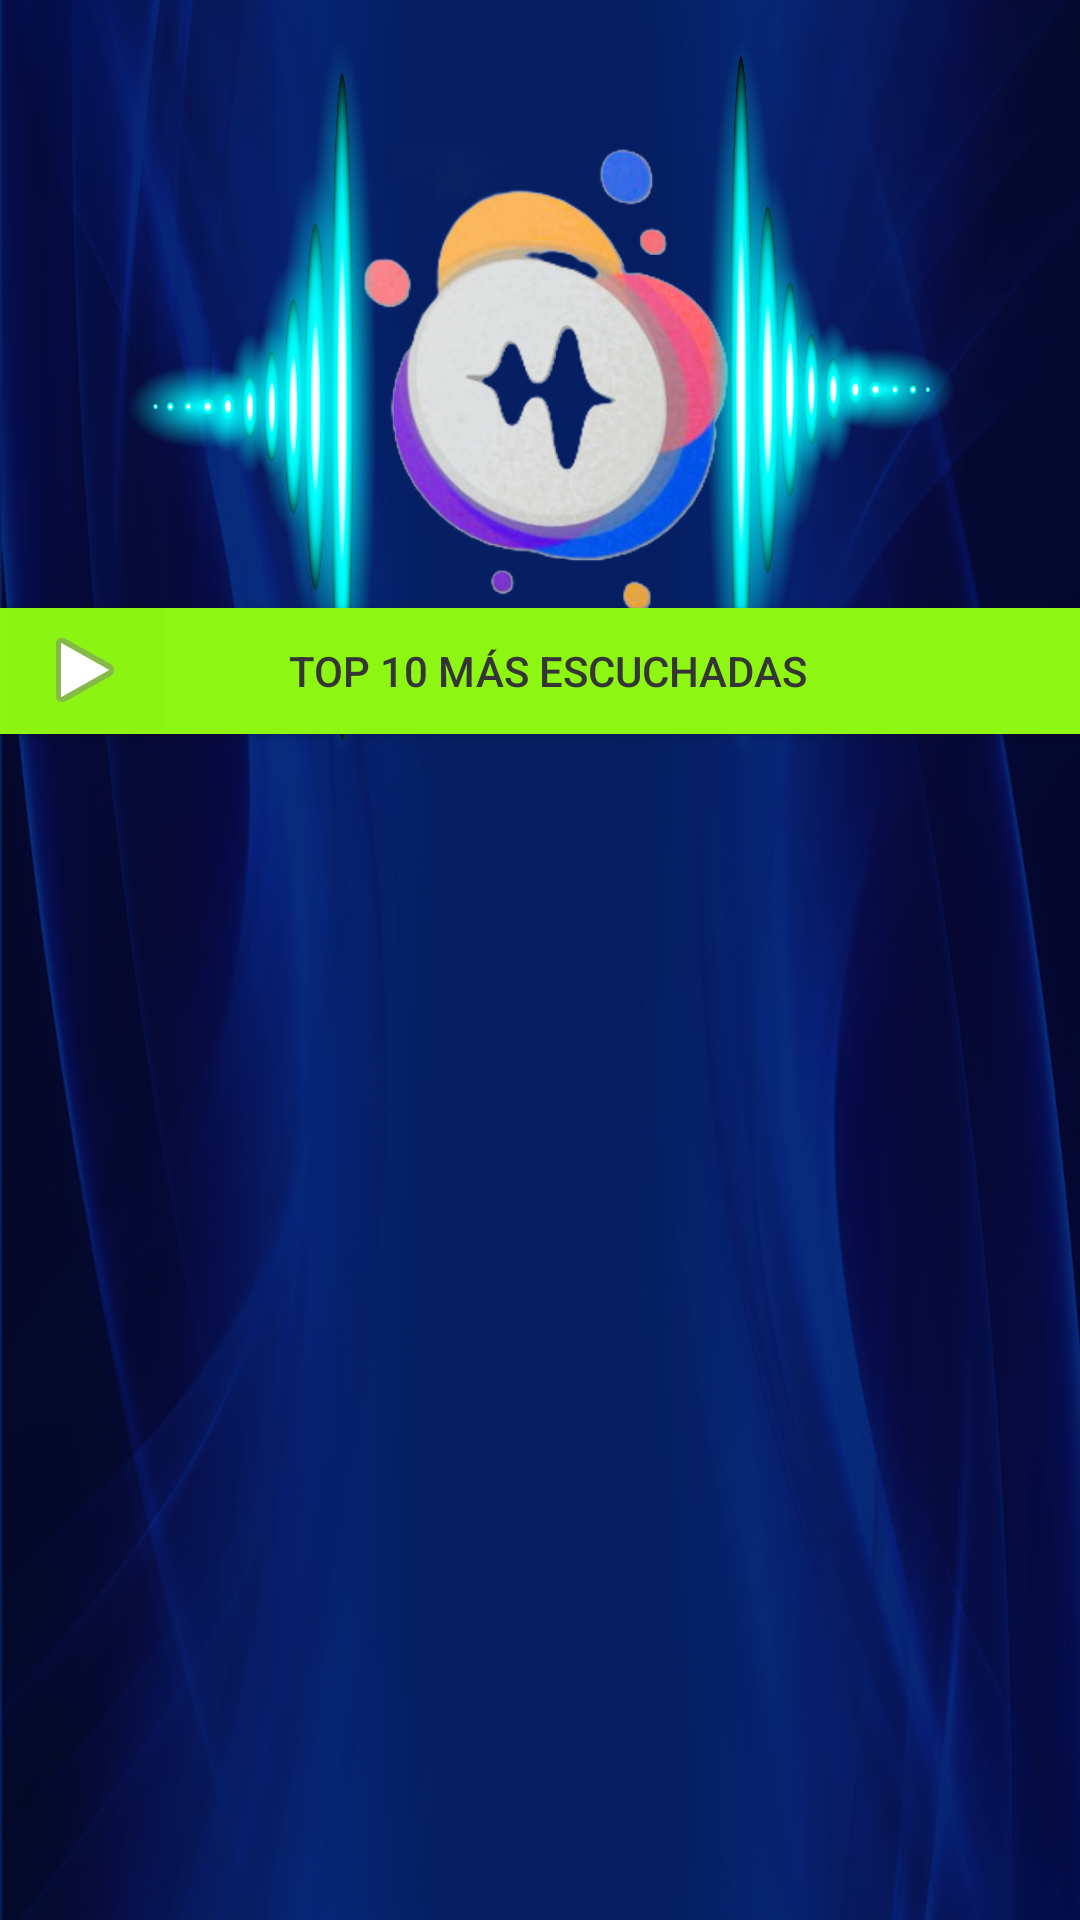

Where icons sit on this 1080px×1920px app screen, as {"left": x1, "top": y1, "right": x2, "bottom": y2}:
play: {"left": 56, "top": 638, "right": 114, "bottom": 702}
